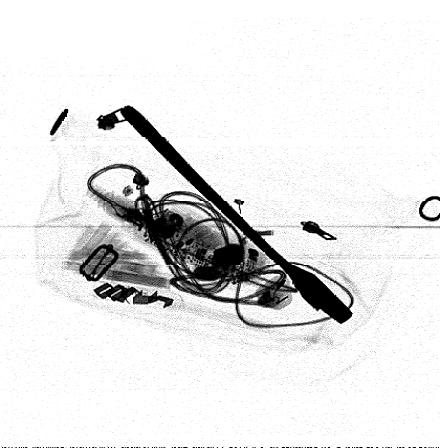Wrench: (118, 103, 357, 327)
